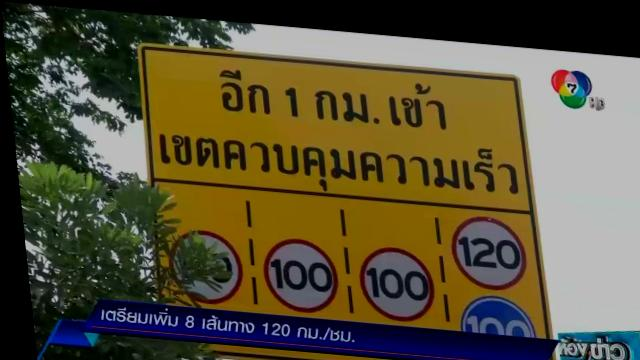limit100: (350, 235, 431, 314), (256, 231, 335, 310)
limit120: (443, 202, 527, 284)
